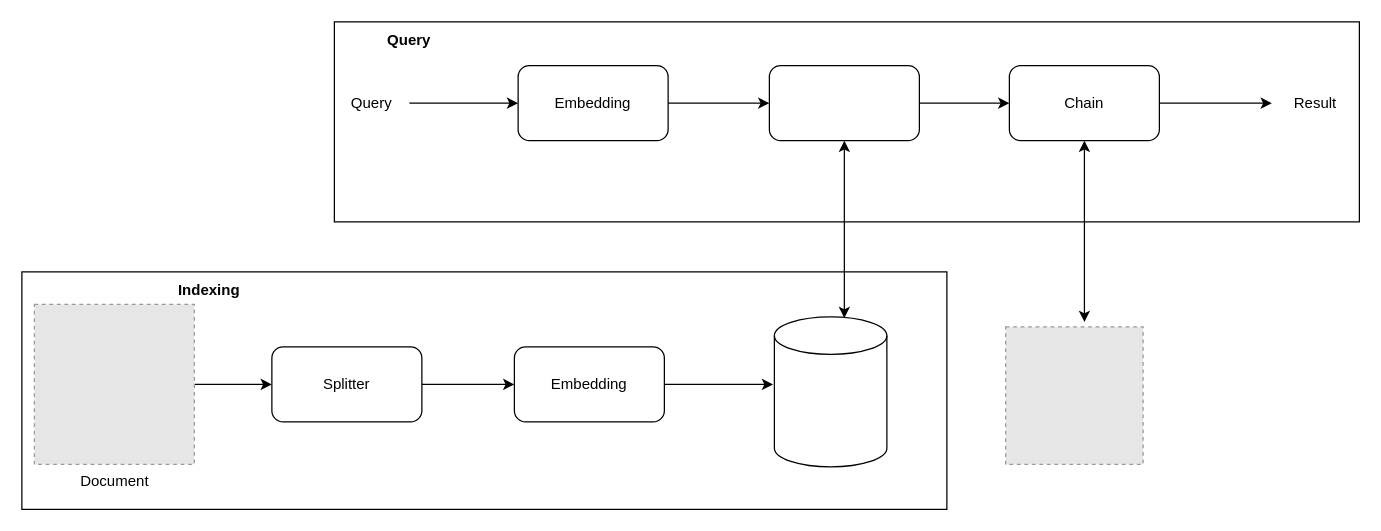
The diagram is 1381 pixels wide and 531 high, and some of its shapes have lost their labels. Grey dashed boxes stand in for pictures. The box of each missing label's shape, as (x1, y1, x2, y2) in pixels:
Similarity: (768, 64, 919, 141)
Vector DB: (773, 316, 887, 467)
